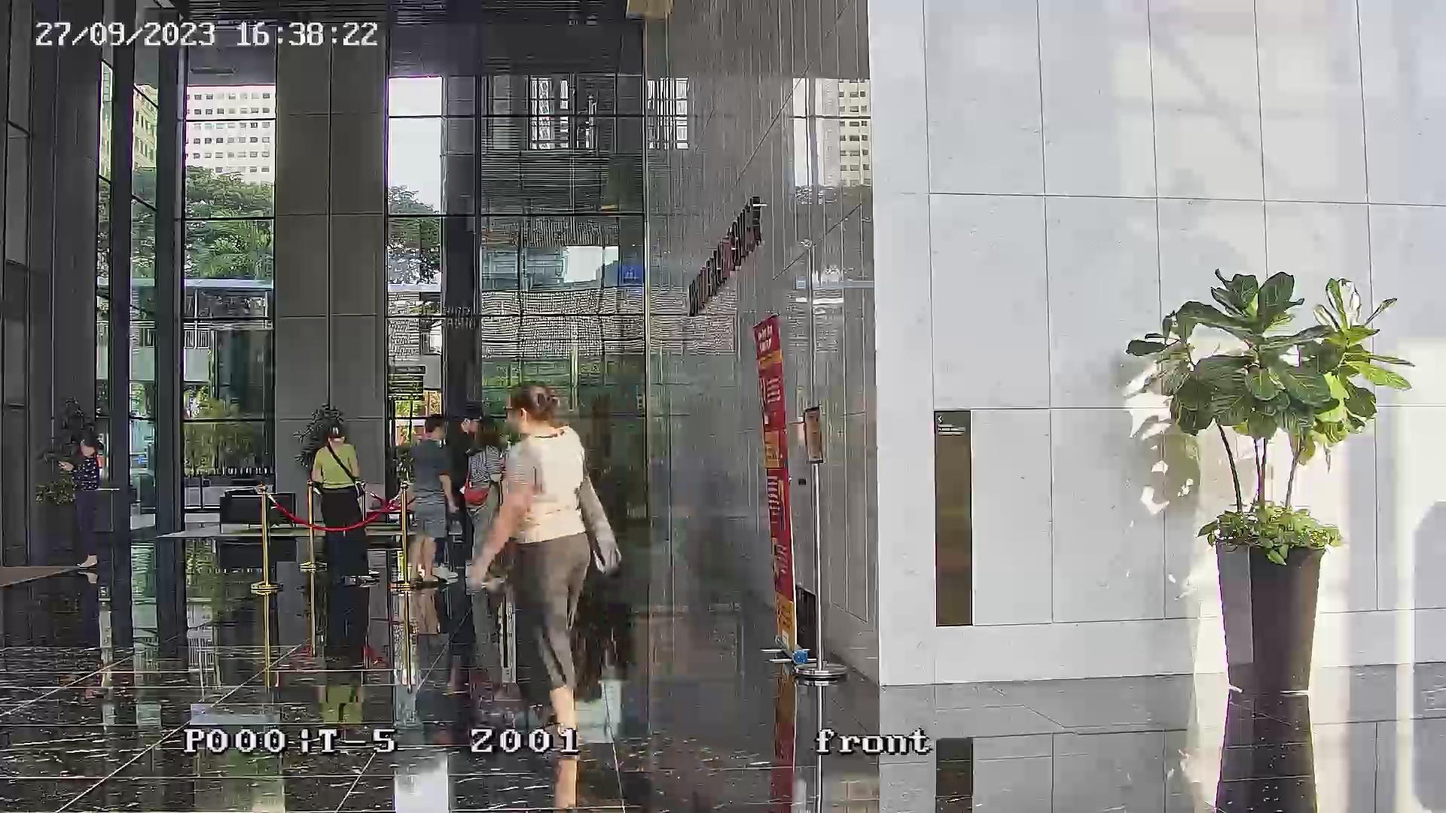person: (466, 381, 622, 742), (401, 410, 457, 584), (310, 422, 368, 578), (463, 416, 508, 585), (60, 437, 104, 573)
